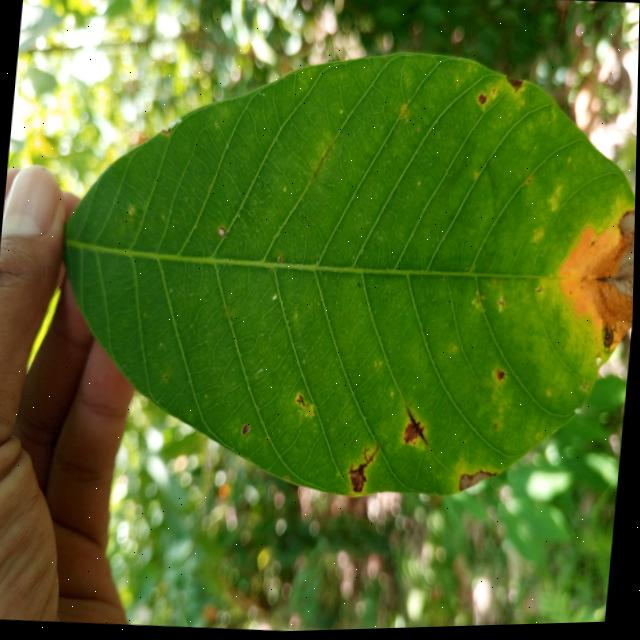Colletotrichum: (217, 227, 226, 238), (243, 426, 250, 436)
Corynespora: (348, 445, 380, 496), (402, 407, 432, 449), (598, 324, 619, 357)
Leaf-Blight: (607, 212, 636, 303), (459, 471, 497, 497), (505, 77, 522, 95)
